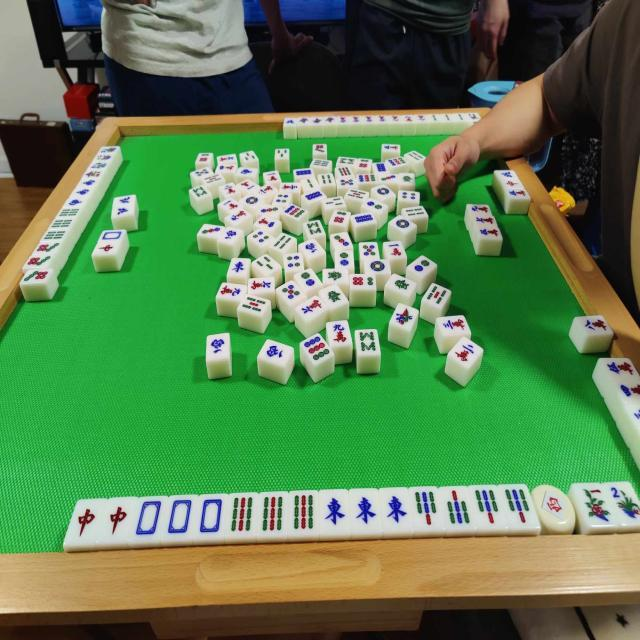bf2: (610, 482, 640, 524)
bs1: (573, 484, 610, 530)
hdr: (105, 498, 129, 540), (74, 500, 96, 543)
hdw: (134, 496, 162, 538), (166, 498, 192, 536), (198, 497, 222, 536)
hwe: (381, 490, 408, 530), (319, 492, 346, 532), (352, 490, 377, 531)
sb7: (504, 484, 536, 529), (474, 486, 503, 528), (443, 484, 472, 526), (413, 488, 441, 530)
sb9: (228, 494, 256, 537), (290, 493, 316, 535), (260, 494, 286, 536)
